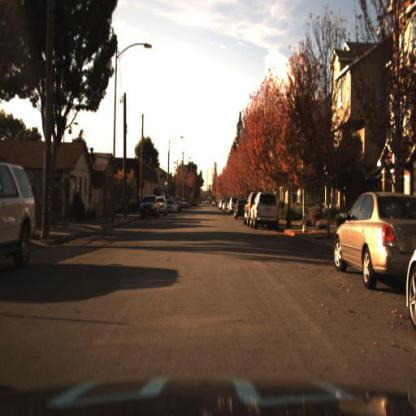car: (332, 190, 416, 296), (1, 161, 38, 279), (252, 191, 281, 232), (140, 194, 158, 222), (234, 197, 250, 223)
